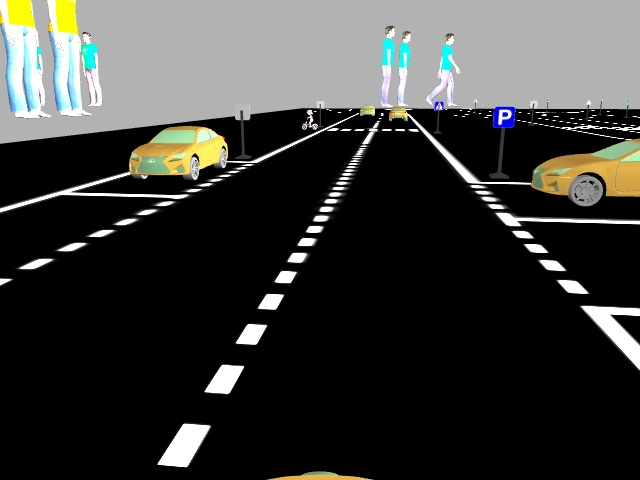Parking: (487, 104, 517, 129)
